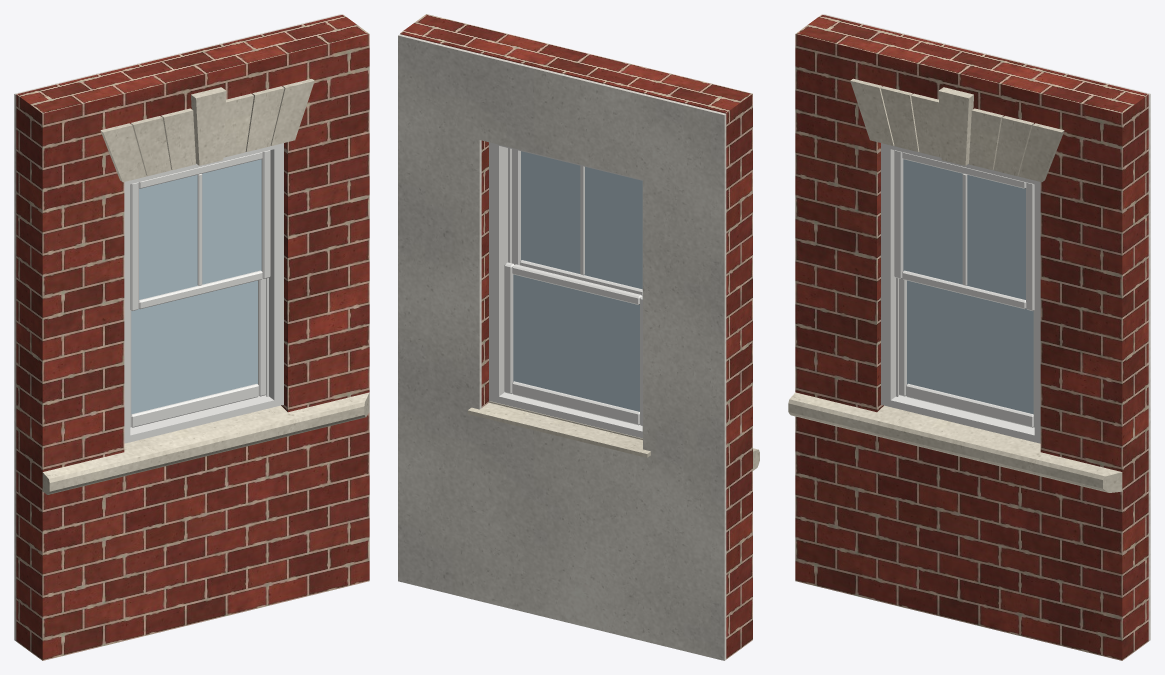
Rendered from u2_wall_window_pvl.glb.
The picture shows the model from 3 angles, left to right: view 1: azimuth 30°, elevation 25°; view 2: azimuth 150°, elevation 25°; view 3: azimuth 330°, elevation 25°; orthographic projection.
Visible parts, largest first — view 1: u2_wall_window_pvl_brick, u2_wall_window_pvl_glass, u2_wall_window_pvl_trim, u2_wall_window_pvl_frame, u2_wall_window_pvl_sash, u2_wall_window_pvl_plaster; view 2: u2_wall_window_pvl_plaster, u2_wall_window_pvl_glass, u2_wall_window_pvl_brick, u2_wall_window_pvl_sash, u2_wall_window_pvl_frame, u2_wall_window_pvl_trim; view 3: u2_wall_window_pvl_brick, u2_wall_window_pvl_glass, u2_wall_window_pvl_trim, u2_wall_window_pvl_frame, u2_wall_window_pvl_sash, u2_wall_window_pvl_plaster.
Part boxes in pixels (box(x1,y1,x2,y2)): u2_wall_window_pvl_brick: box(16, 14, 369, 660); u2_wall_window_pvl_glass: box(131, 159, 261, 414); u2_wall_window_pvl_trim: box(42, 79, 369, 494); u2_wall_window_pvl_frame: box(124, 143, 283, 443); u2_wall_window_pvl_sash: box(130, 150, 270, 427); u2_wall_window_pvl_plaster: box(14, 14, 341, 641); u2_wall_window_pvl_plaster: box(398, 34, 726, 660); u2_wall_window_pvl_glass: box(513, 151, 642, 411); u2_wall_window_pvl_brick: box(400, 14, 752, 659); u2_wall_window_pvl_sash: box(504, 149, 642, 425); u2_wall_window_pvl_frame: box(489, 142, 642, 438); u2_wall_window_pvl_trim: box(467, 401, 759, 470); u2_wall_window_pvl_brick: box(795, 14, 1148, 660); u2_wall_window_pvl_glass: box(903, 159, 1033, 414); u2_wall_window_pvl_trim: box(788, 78, 1122, 492); u2_wall_window_pvl_frame: box(881, 143, 1040, 443); u2_wall_window_pvl_sash: box(894, 150, 1034, 427); u2_wall_window_pvl_plaster: box(823, 14, 1150, 641).
Bounding box in the file's own units: 2 × 3.2 × 0.415.
6 materials, 3 textured.
